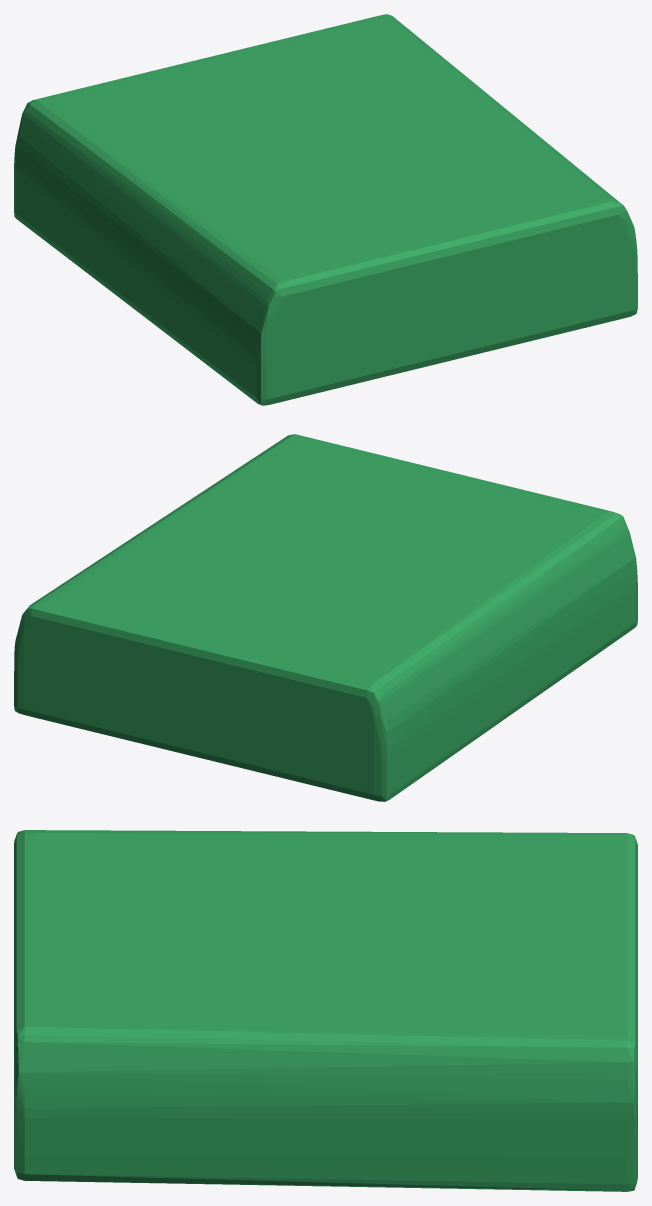
File: left_shoulder_yaw_link_part_10.obj
3 views of the same model, one above another, from view 1: azimuth 30°, elevation 25°; view 2: azimuth 150°, elevation 25°; view 3: azimuth 270°, elevation 25° (orthographic). The views are drawn at different scales.
Size of the model in its own units: 0.056 by 0.0161 by 0.0627.
